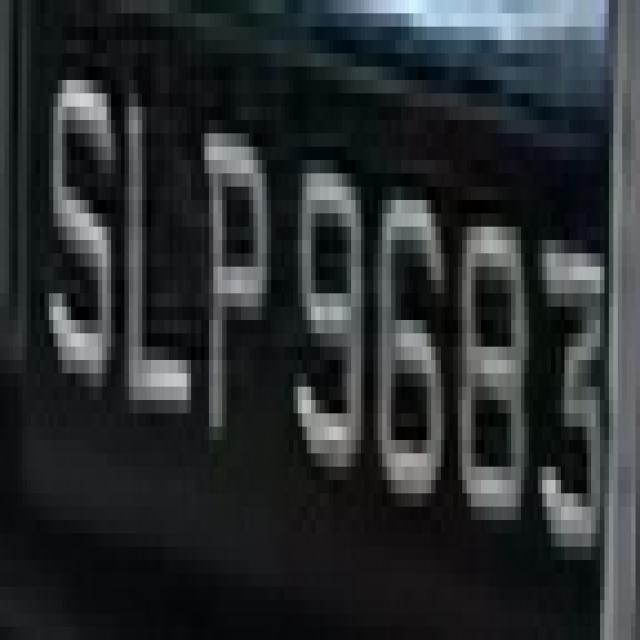3: (524, 186, 614, 586)
6: (374, 133, 454, 520)
8: (449, 187, 533, 573)
9: (280, 120, 364, 493)
L: (120, 66, 196, 466)
P: (204, 80, 276, 453)
S: (40, 67, 120, 413)
